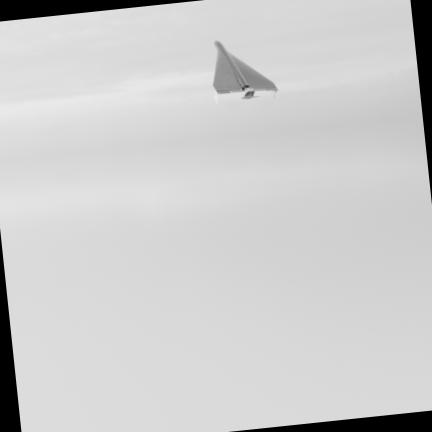Shahed: (214, 41, 277, 102)
